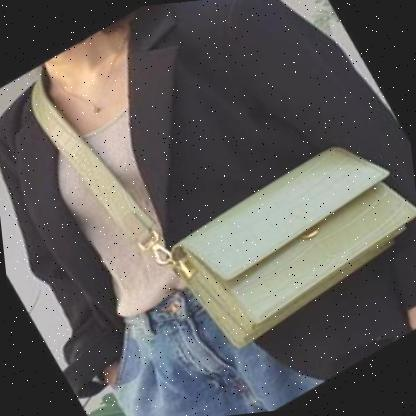bag: (151, 128, 416, 362)
